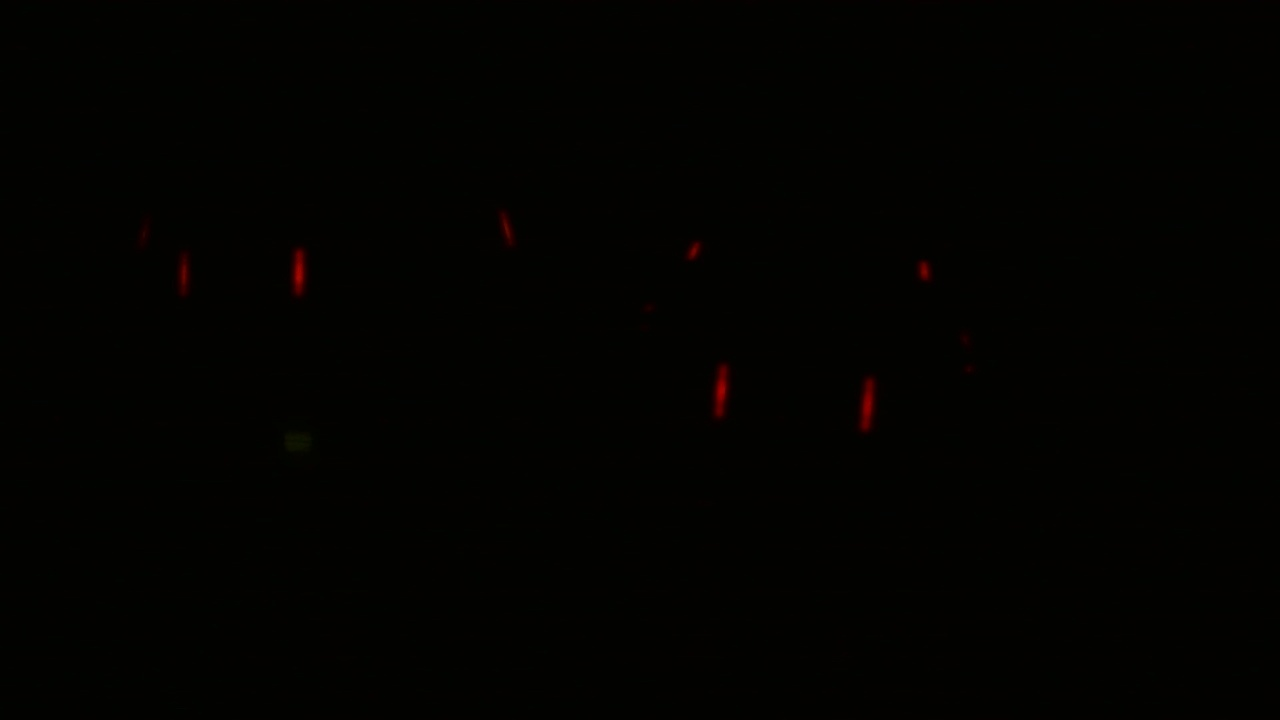pair1: (699, 353, 882, 448), (171, 239, 311, 306)
